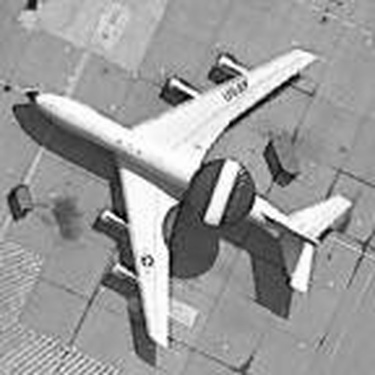airplane: (7, 39, 358, 352)
